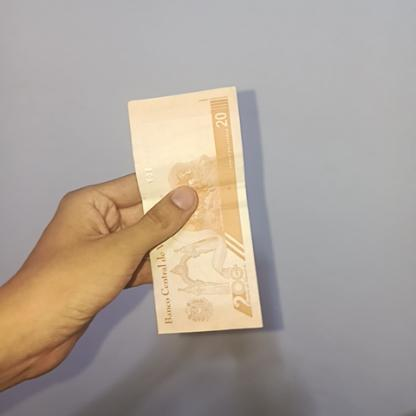twenty-back-vef: (126, 86, 264, 334)
